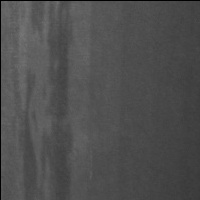inclusion: (21, 2, 73, 200)
